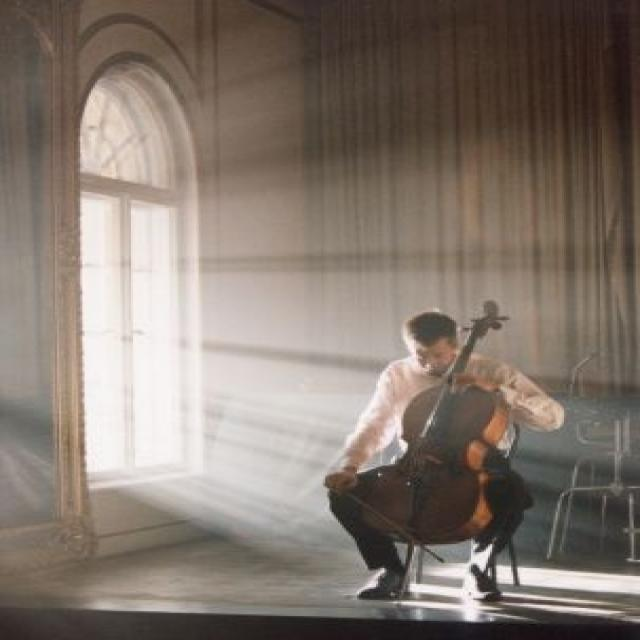cello: (361, 299, 528, 545)
